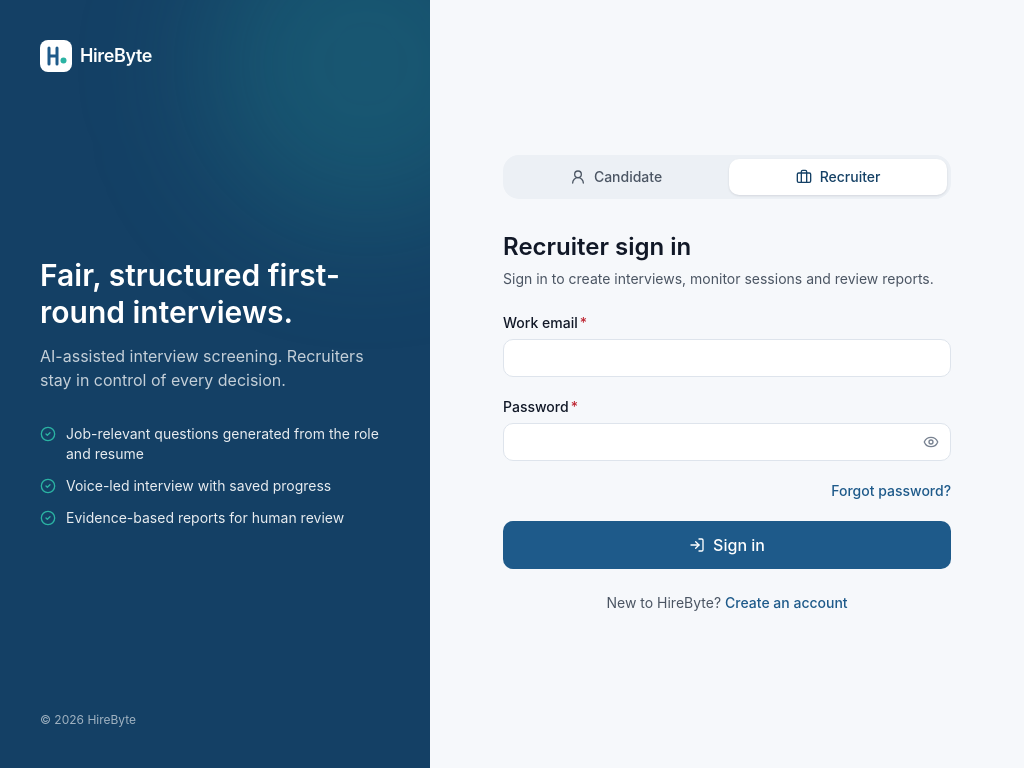
Test: RecruiterLoginPage › shows a generic message for wrong credentials and clears the password
Type "someone@example.test" into the field labelled "Work email*" at (727, 358), box left=503, top=339, right=951, bottom=377
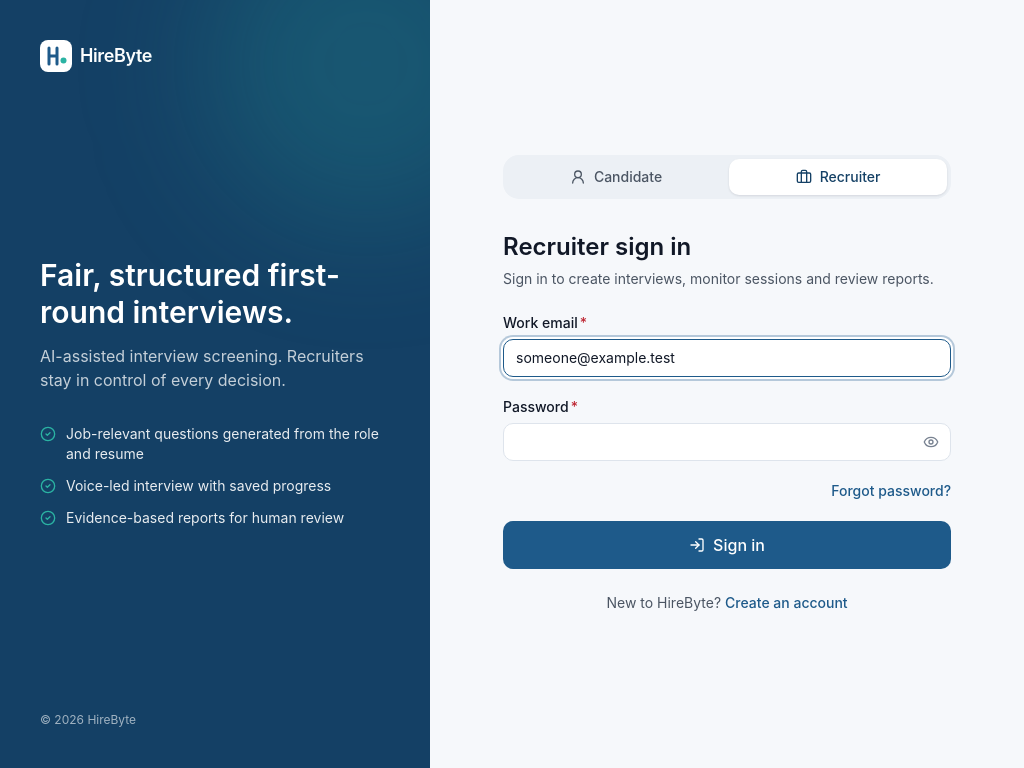
Type "wrong-password" into the password field labelled "Password*" at (727, 442), box left=503, top=423, right=951, bottom=461
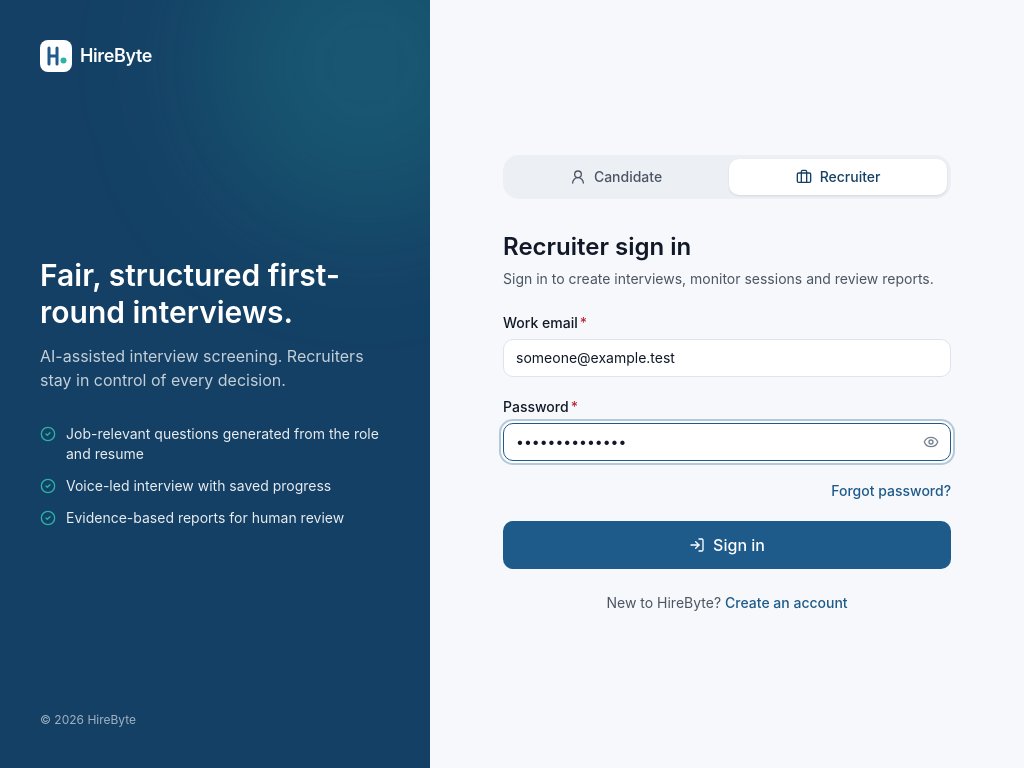
Click the button "Sign in" at (727, 545), box left=503, top=521, right=951, bottom=569
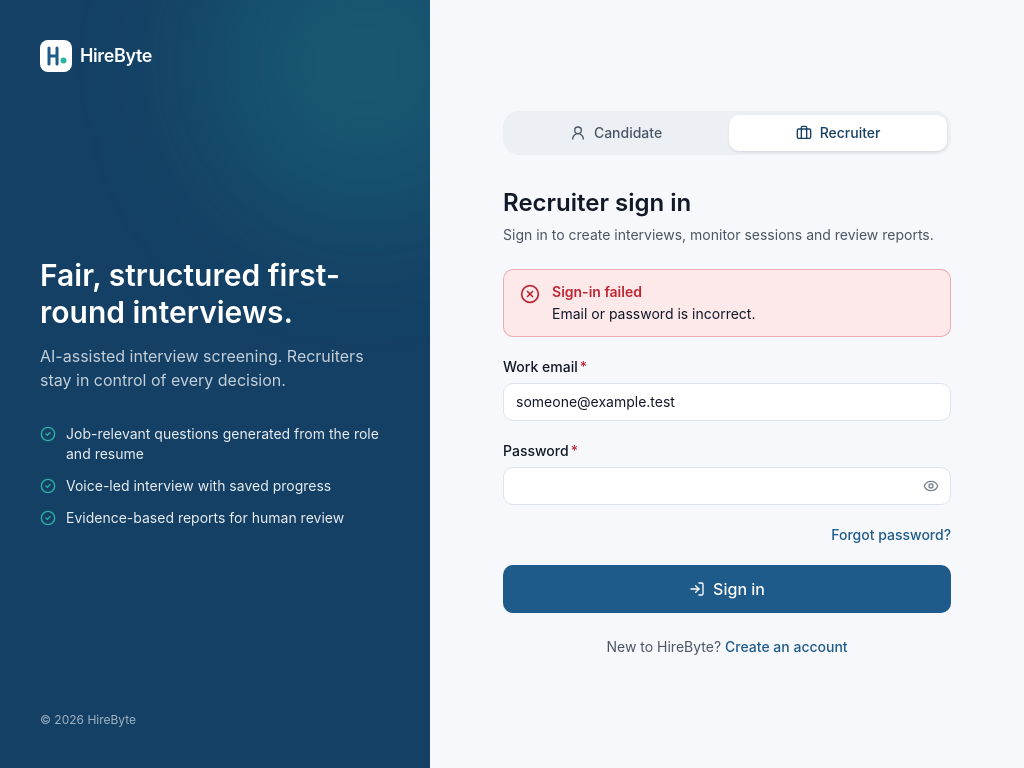
expect the text "Email or password is incorrect." is shown: met, box left=552, top=305, right=755, bottom=322
expect the password field labelled "Password*" is empty: met, box left=503, top=467, right=951, bottom=505
